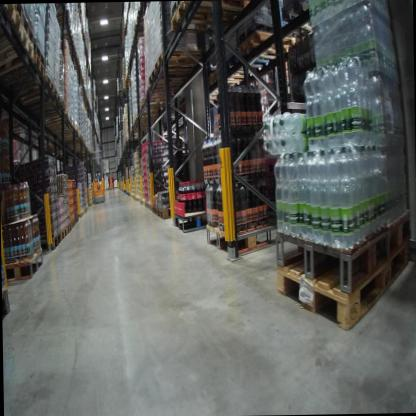pallet: (276, 235, 411, 331), (273, 208, 410, 300), (204, 216, 281, 260), (171, 1, 253, 37), (0, 21, 38, 84), (237, 28, 297, 61), (2, 54, 45, 100), (6, 245, 46, 283), (169, 204, 216, 236), (10, 71, 55, 103), (17, 84, 60, 116), (152, 46, 201, 69), (0, 4, 23, 51), (145, 67, 190, 86), (30, 96, 67, 119), (143, 79, 191, 94), (1, 286, 15, 318), (137, 98, 174, 110), (42, 231, 61, 249), (155, 203, 172, 220), (54, 6, 72, 22), (59, 224, 67, 238), (65, 221, 72, 234), (69, 216, 76, 228), (151, 206, 157, 215), (148, 202, 153, 210), (141, 199, 145, 208), (75, 214, 79, 223), (145, 200, 148, 210)
pallet_truck: (91, 147, 106, 204)
